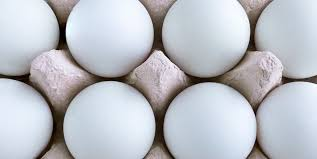eggs: (65, 0, 160, 77), (165, 80, 254, 159), (65, 81, 156, 157), (163, 0, 252, 71), (0, 74, 62, 156), (0, 0, 63, 75), (260, 78, 317, 157), (261, 0, 317, 71)
